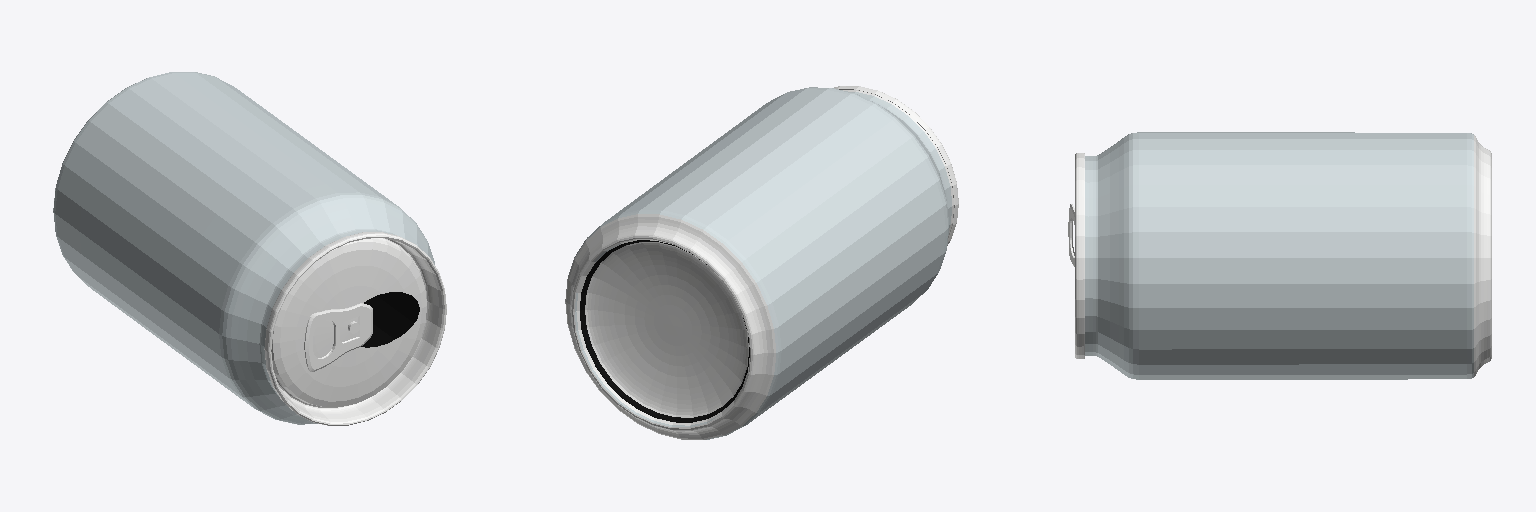
The model's file is can.obj.
3 views of the same model, side by side, from view 1: azimuth 30°, elevation 25°; view 2: azimuth 150°, elevation 25°; view 3: azimuth 270°, elevation 25° (orthographic).
Parts seen in each view (by area): view 1: lattina, anello, inside; view 2: lattina, inside; view 3: lattina.
Part boxes in pixels (left/top/right/bottom): lattina: left=53, top=72, right=446, bottom=425; anello: left=304, top=303, right=372, bottom=371; inside: left=361, top=292, right=419, bottom=347; lattina: left=565, top=86, right=958, bottom=439; inside: left=580, top=240, right=749, bottom=422; lattina: left=1075, top=132, right=1491, bottom=379.
Size of the model in its own units: 2510 by 2497 by 4277.